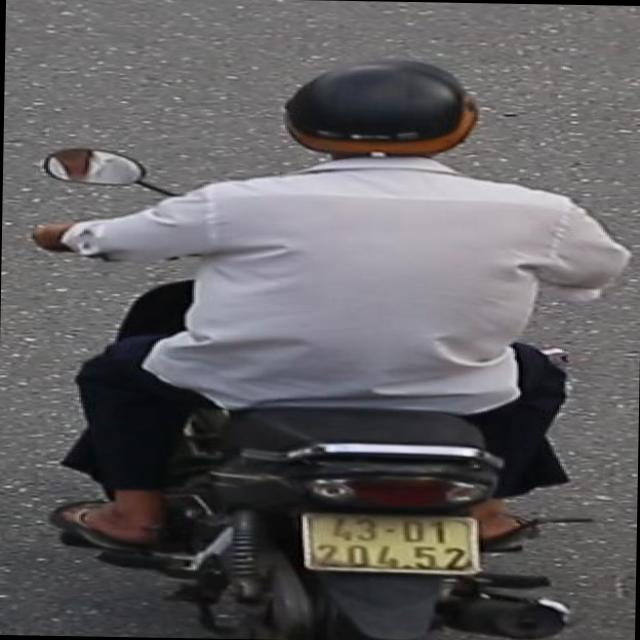LP: (285, 506, 495, 581)
helmet: (264, 46, 487, 159)
